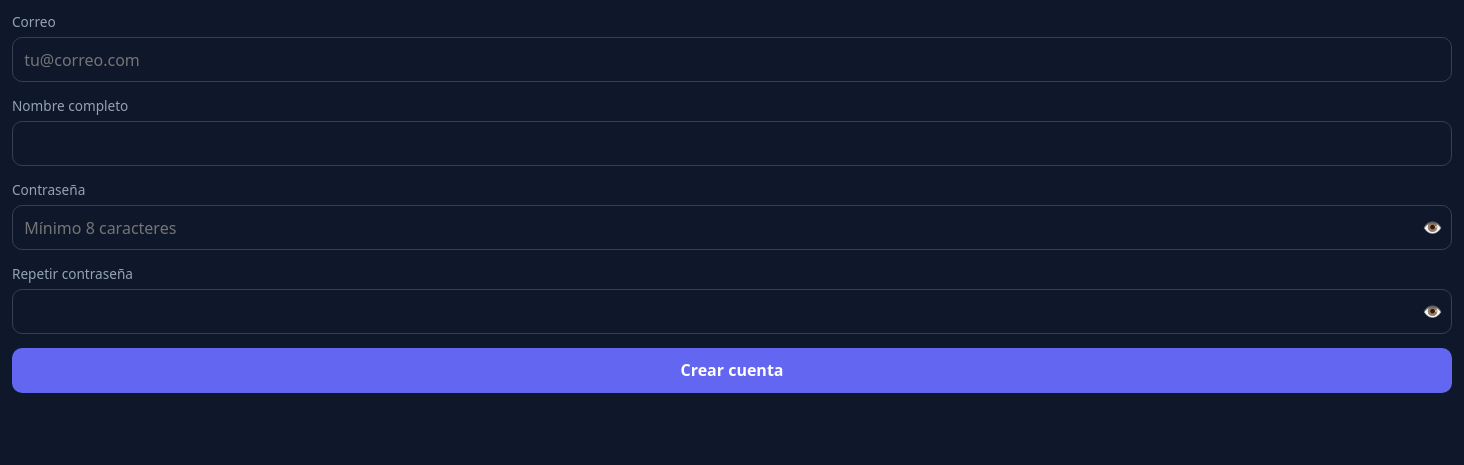
Test: RegisterForm › bloquea si la contraseña es muy corta
Type "a@b.com" into the field labelled "Correo". click: [732, 60]
box: [12,37,1452,82]
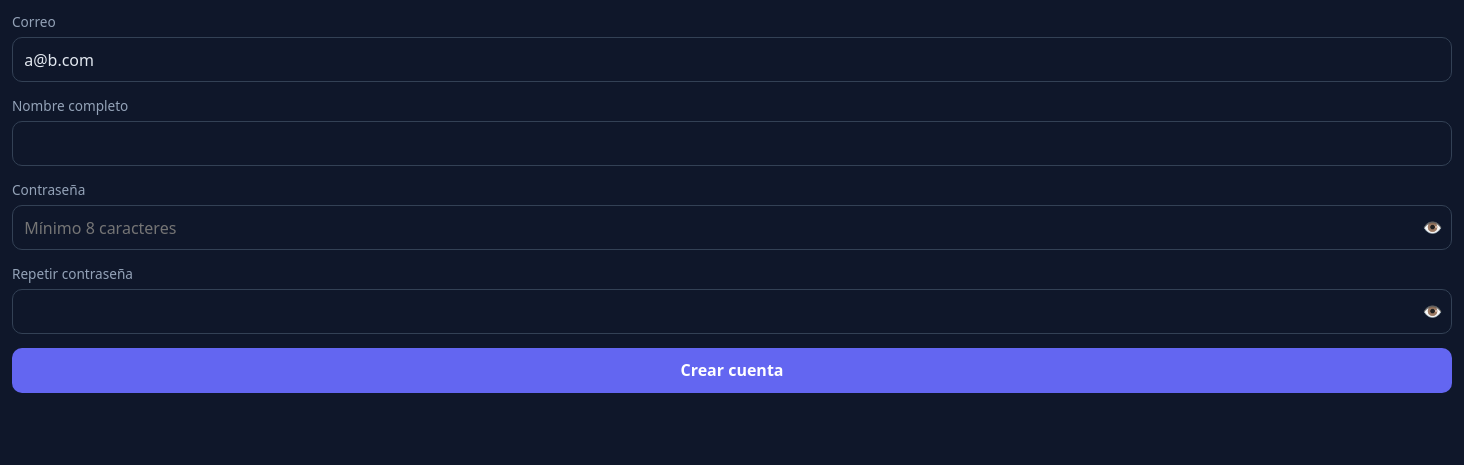
Type "Ana" into the field labelled "Nombre completo". click: [732, 144]
box: [12,121,1452,166]
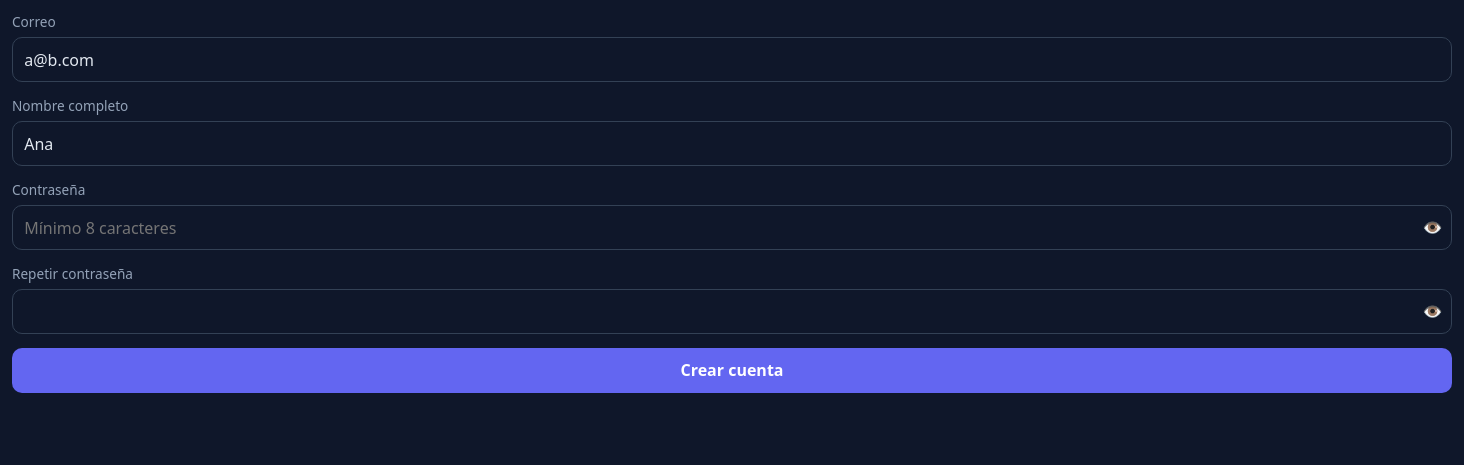
Type "123" into the password field labelled "Contraseña". click: [732, 228]
box: [12,205,1452,250]
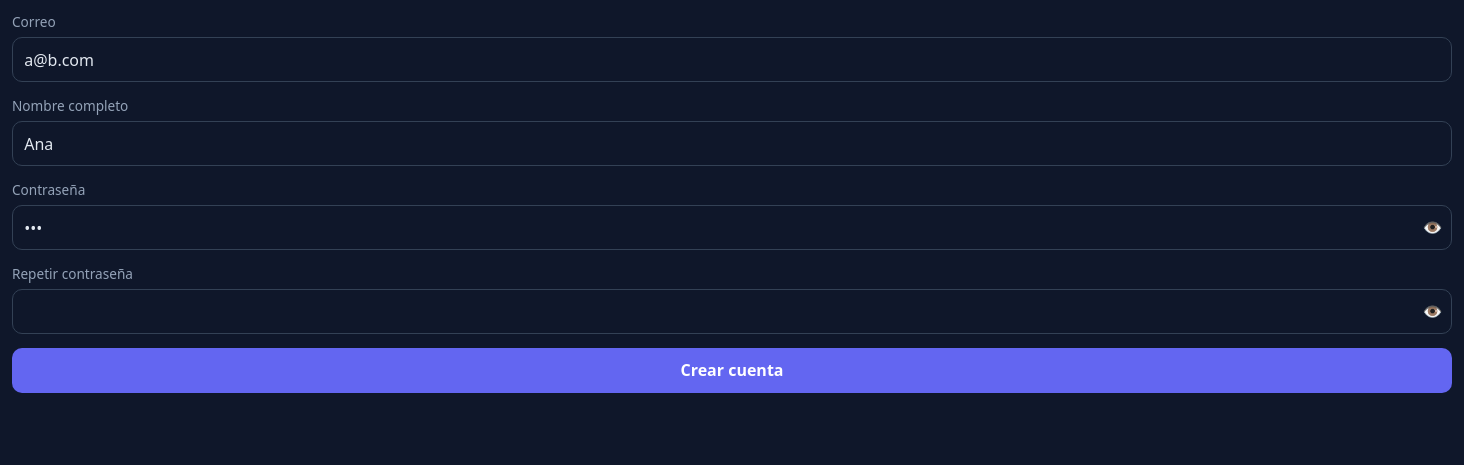
Type "123" into the password field labelled "Repetir contraseña". click: [732, 312]
box: [12,289,1452,334]
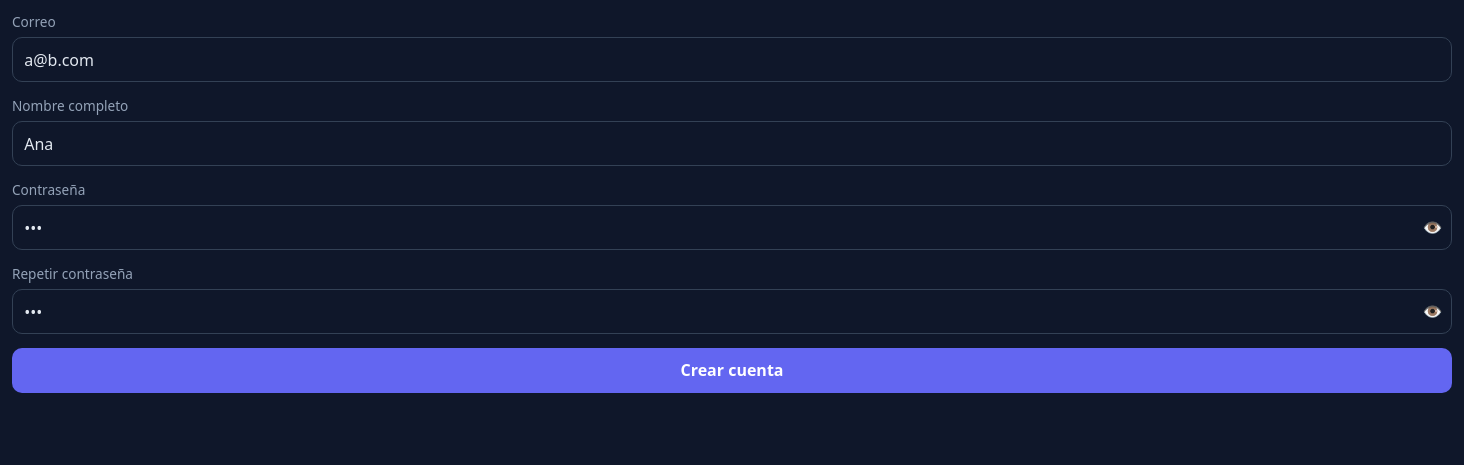
Click the button "Crear cuenta". click: [732, 370]
box: [12,348,1452,393]
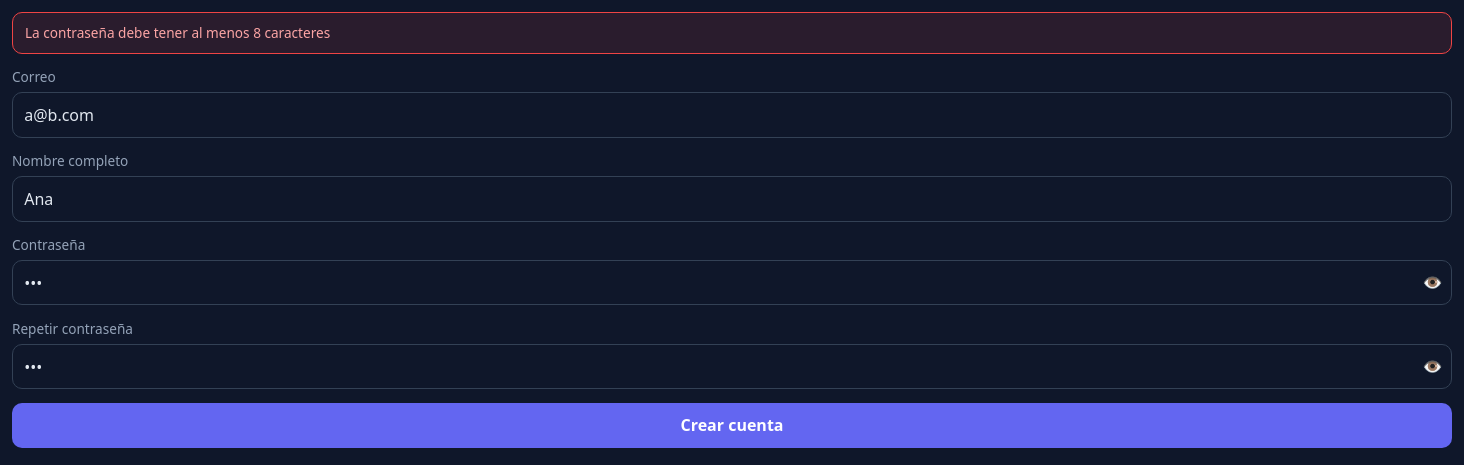
Now the message shows "al menos 8 caracteres", box [25,23,330,42]
